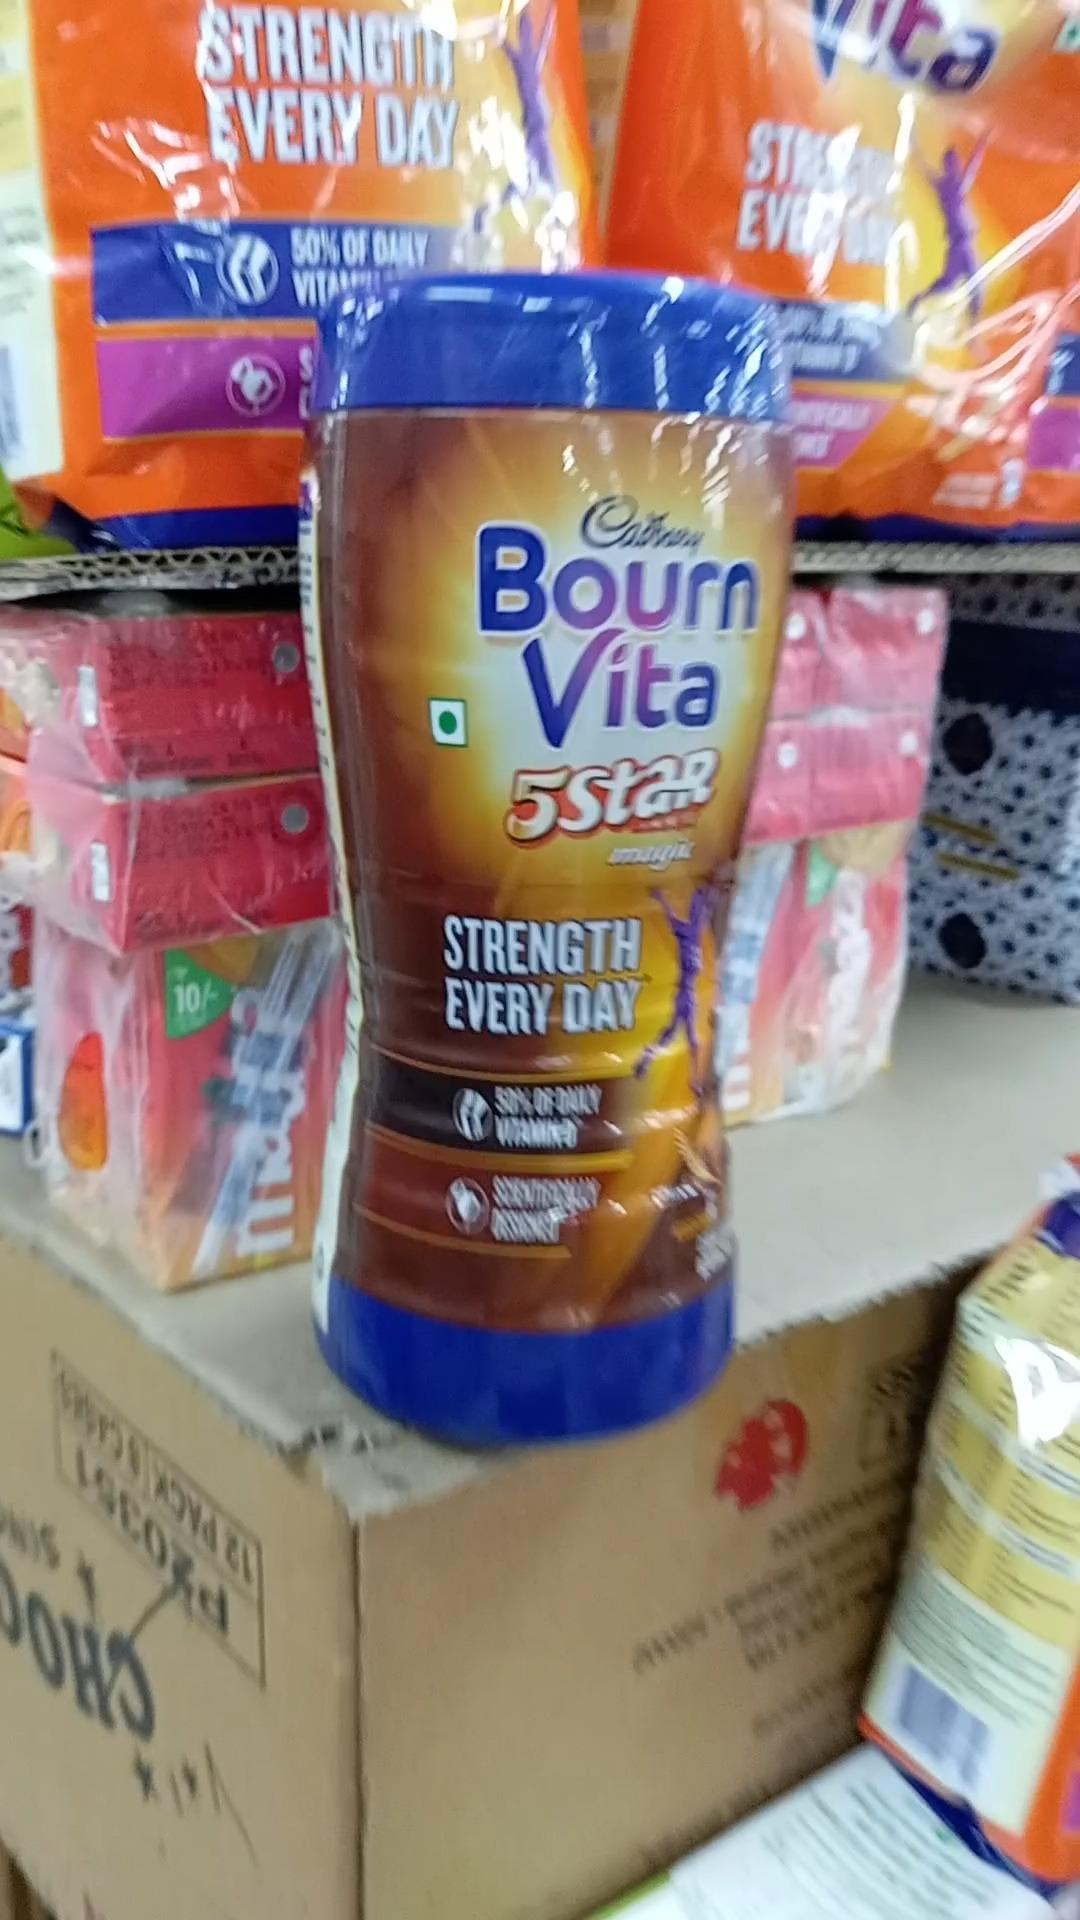BOURN_VITA_FIVE_STAR_MAGIC_500_G_JAR: (305, 274, 798, 1453)
